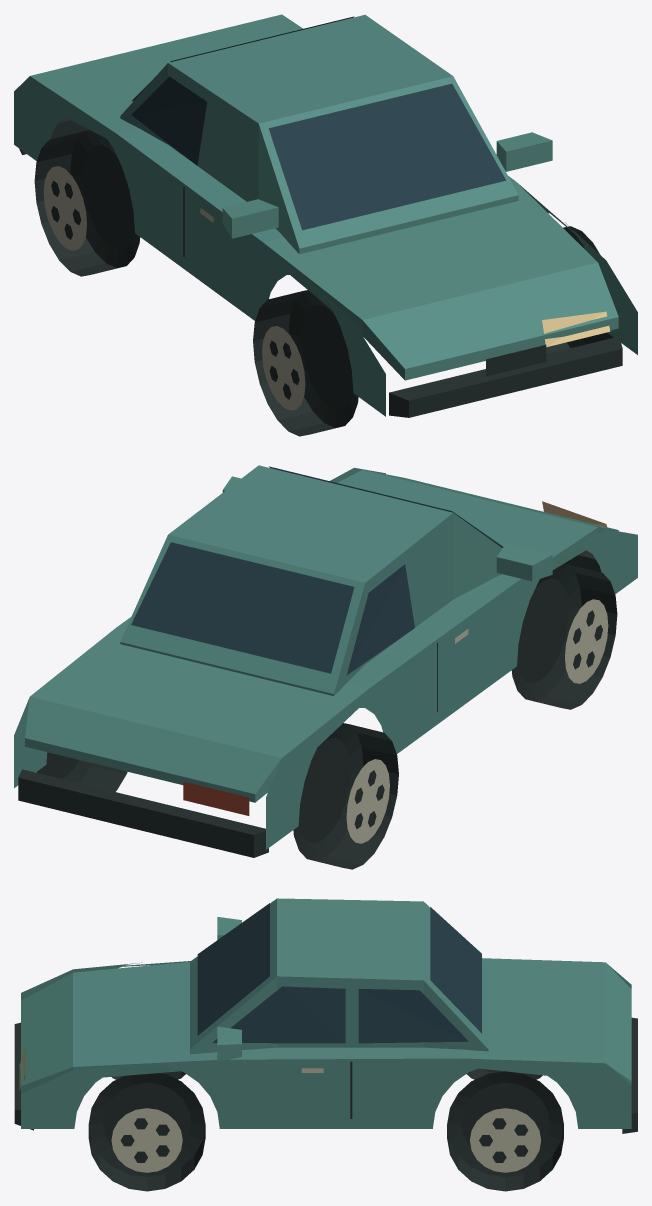
Rendered from three-sedan.glb.
3 views of the same model, one above another, from view 1: azimuth 30°, elevation 25°; view 2: azimuth 150°, elevation 25°; view 3: azimuth 270°, elevation 25° (orthographic). The views are drawn at different scales.
Parts seen in each view (by area): view 1: Sculpted_deck, Sloping_cabin, Windshield, Profiled_tire (×3), Cutout_fender_-1, Front_bumper, Wheel_disc (×2), Rear_side_window, Cutout_fender_1, Side_mirror_-1, Side_mirror_1, Headlight_1 (+1 smaller); view 2: Sculpted_deck, Sloping_cabin, Profiled_tire (×3), Cutout_fender_-1, Rear_window, Rear_bumper, Wheel_disc (×2), Rear_side_window, Side_mirror_-1, Cutout_fender_1, Taillight_-1; view 3: Sculpted_deck, Cutout_fender_1, Sloping_cabin, Profiled_tire (×2), Wheel_disc (×2), Windshield, Front_side_window, Rear_side_window, Rear_window, Rear_bumper, Side_mirror_1, Cutout_fender_-1 (+1 smaller).
Part boxes in pixels (left/top/right/bottom): Sculpted_deck: left=29, top=14, right=618, bottom=380; Sloping_cabin: left=120, top=14, right=518, bottom=254; Windshield: left=268, top=83, right=506, bottom=230; Profiled_tire (×3): left=34, top=130, right=613, bottom=436; Cutout_fender_-1: left=14, top=76, right=385, bottom=416; Front_bumper: left=389, top=336, right=622, bottom=417; Wheel_disc (×2): left=43, top=166, right=305, bottom=410; Rear_side_window: left=131, top=76, right=207, bottom=165; Cutout_fender_1: left=518, top=183, right=637, bottom=354; Side_mirror_-1: left=222, top=199, right=278, bottom=238; Side_mirror_1: left=496, top=132, right=552, bottom=171; Headlight_1: left=542, top=311, right=610, bottom=347; Sculpted_deck: left=25, top=469, right=618, bottom=802; Sloping_cabin: left=120, top=465, right=502, bottom=695; Profiled_tire (×3): left=36, top=563, right=617, bottom=869; Cutout_fender_-1: left=266, top=529, right=637, bottom=849; Rear_window: left=131, top=542, right=354, bottom=673; Rear_bumper: left=18, top=769, right=268, bottom=857; Wheel_disc (×2): left=346, top=599, right=608, bottom=843; Rear_side_window: left=346, top=564, right=414, bottom=675; Side_mirror_-1: left=496, top=543, right=552, bottom=581; Cutout_fender_1: left=14, top=467, right=385, bottom=787; Taillight_-1: left=183, top=781, right=249, bottom=815; Sculpted_deck: left=21, top=958, right=631, bottom=1093; Cutout_fender_1: left=21, top=1058, right=631, bottom=1128; Sloping_cabin: left=190, top=898, right=488, bottom=1054; Profiled_tire (×2): left=88, top=1071, right=563, bottom=1191; Wheel_disc (×2): left=111, top=1108, right=541, bottom=1172; Windshield: left=197, top=903, right=269, bottom=1035; Front_side_window: left=212, top=986, right=345, bottom=1043; Rear_side_window: left=358, top=989, right=468, bottom=1043; Rear_window: left=430, top=907, right=481, bottom=1033; Rear_bumper: left=622, top=1017, right=637, bottom=1133; Side_mirror_1: left=217, top=1026, right=241, bottom=1061; Cutout_fender_-1: left=21, top=961, right=631, bottom=1000.
Size of the model in its own units: 2.34 by 1.66 by 4.81.
